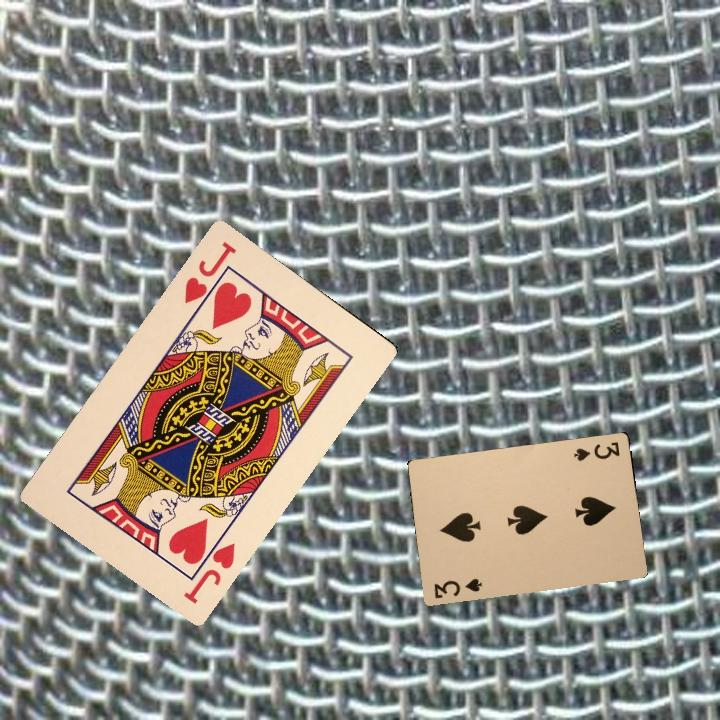3s: (430, 574, 484, 601), (570, 438, 622, 463)
Jh: (180, 237, 239, 316), (179, 529, 238, 606)
